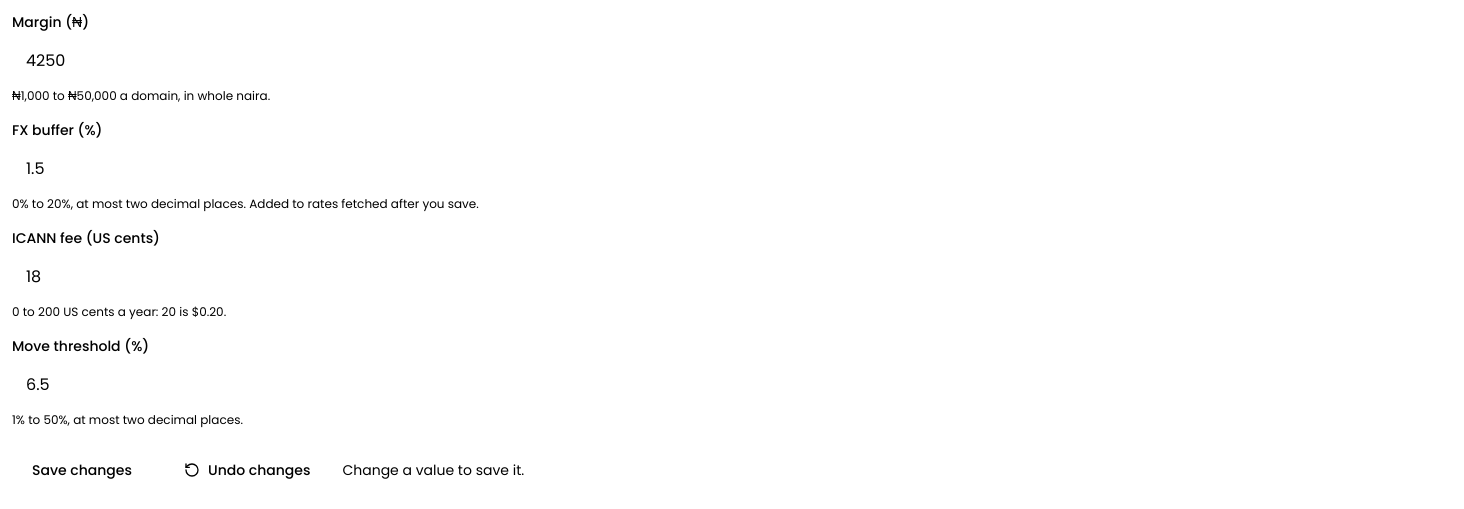
Test: the settings form › shows the stored values, and offers Save only once something changed
The image size is (1464, 509).
Expected: the field labelled "FX buffer (%)" holds "1.5", [12, 146, 1452, 190]
Expected: the field labelled "ICANN fee (US cents)" holds "18", [12, 254, 1452, 298]
Replace the text in the field labelled "Margin (₦)" with "5,000" at (732, 60), box [12, 38, 1452, 82]
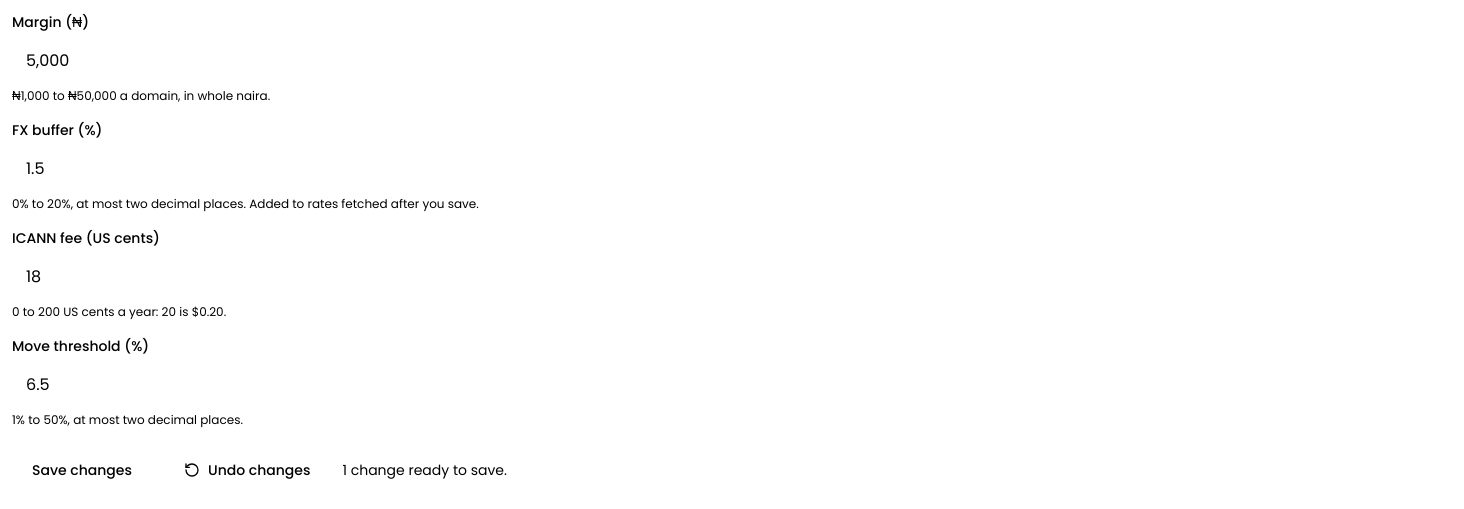
Expected: the button "Save changes" is enabled, [12, 448, 152, 492]
Now the message reads "1 change ready to save.", box [342, 460, 507, 480]
